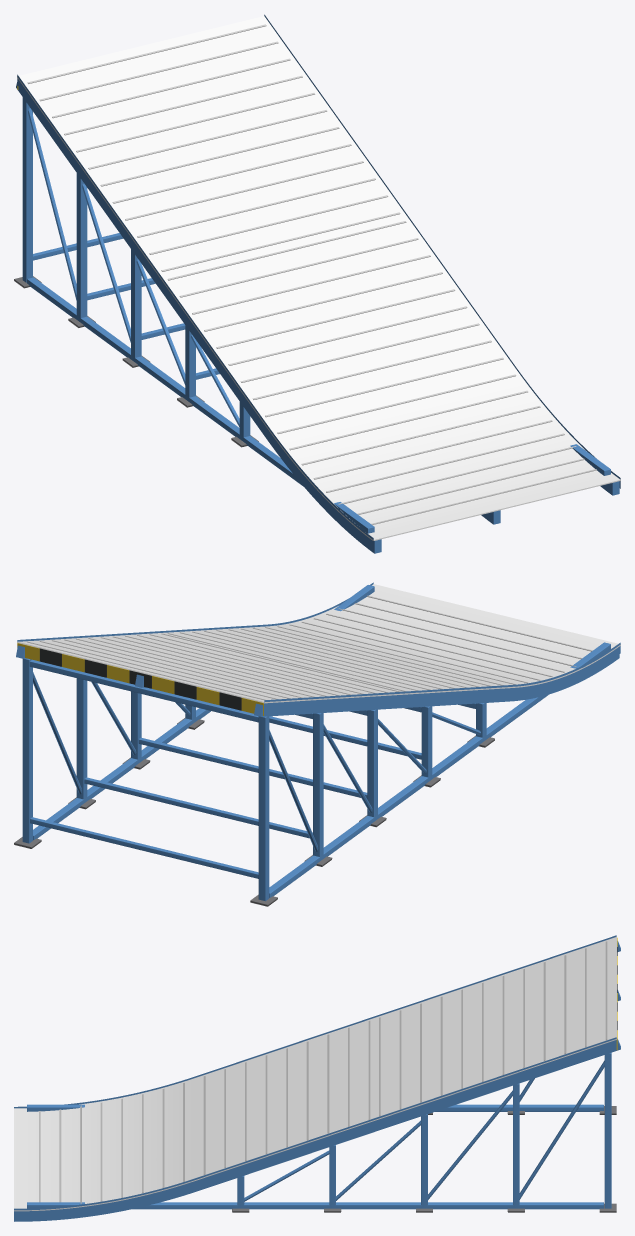
The model's file is sport.stunt.ramp_xl.glb.
The picture shows the model from 3 angles, top to bottom: view 1: azimuth 30°, elevation 25°; view 2: azimuth 150°, elevation 25°; view 3: azimuth 270°, elevation 25°; orthographic projection. The views are drawn at different scales.
Visible parts, largest first — view 1: main__steel_fff, main__paint_59c, main__galv_ccc; view 2: main__steel_fff, main__paint_59c, main__galv_ccc, main__paint_ec3, main__paint_333, main__steel_777; view 3: main__steel_fff, main__paint_59c, main__galv_ccc, main__steel_777.
Boxes of the visible parts, bbox=[...] form: main__steel_fff: bbox=[17, 16, 620, 540]; main__paint_59c: bbox=[16, 14, 620, 553]; main__galv_ccc: bbox=[27, 24, 596, 524]; main__steel_fff: bbox=[17, 584, 620, 703]; main__paint_59c: bbox=[16, 582, 620, 901]; main__galv_ccc: bbox=[27, 595, 592, 700]; main__paint_ec3: bbox=[17, 643, 263, 715]; main__paint_333: bbox=[39, 648, 241, 710]; main__steel_777: bbox=[14, 718, 494, 906]; main__steel_fff: bbox=[14, 936, 616, 1211]; main__paint_59c: bbox=[14, 935, 620, 1221]; main__galv_ccc: bbox=[39, 941, 607, 1203]; main__steel_777: bbox=[232, 1106, 616, 1212].
Bounding box in the file's own units: 2.88 × 2.37 × 7.05.
